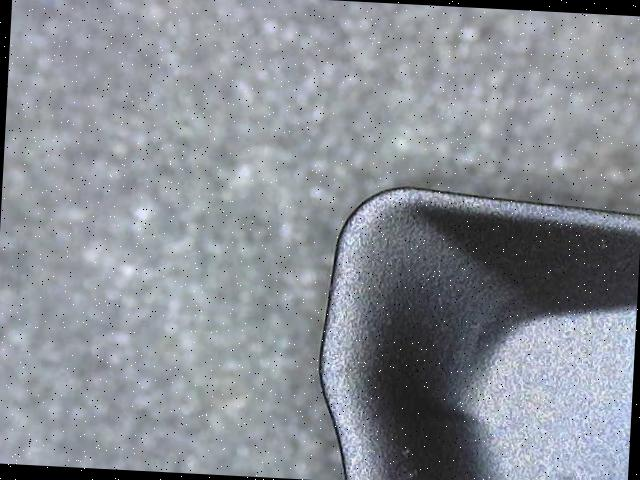normal: (316, 183, 640, 480)
